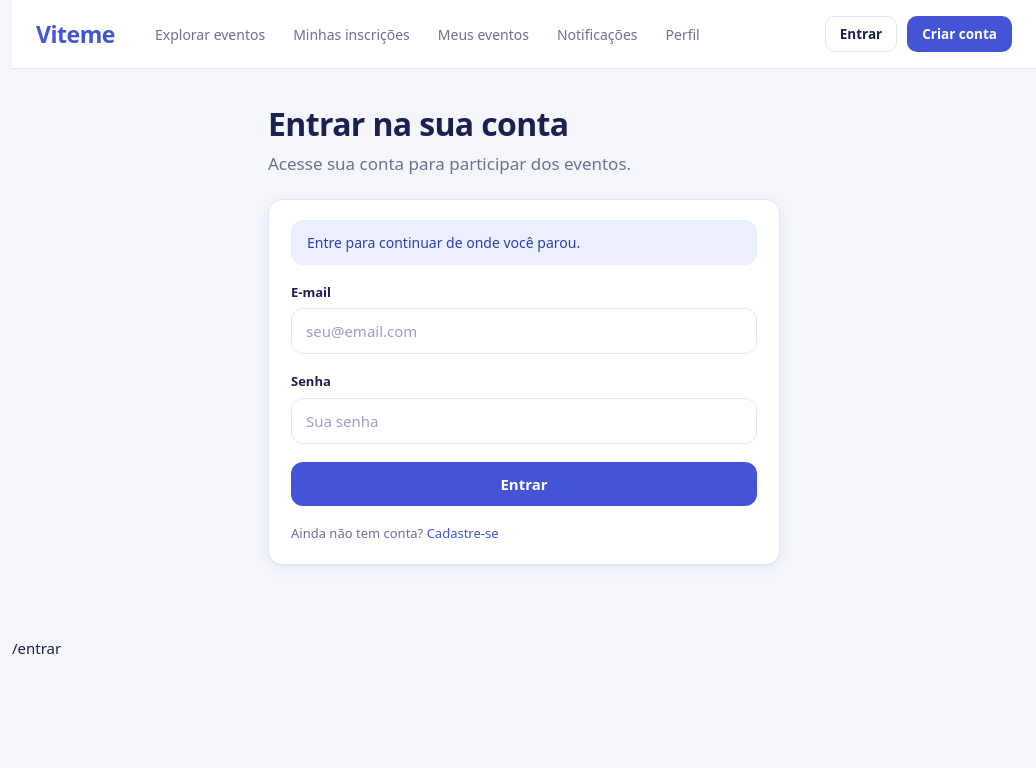
Test case: CT59 — rota protegida › redireciona o visitante ao login e volta à rota após autenticar
This screenshot has width=1036, height=768.
Expected: the heading "Entrar na sua conta" is shown, [268,102,568,145]
Type "maria@exemplo.com" into the field labelled "E-mail" at [524, 331], box [291,308,757,354]
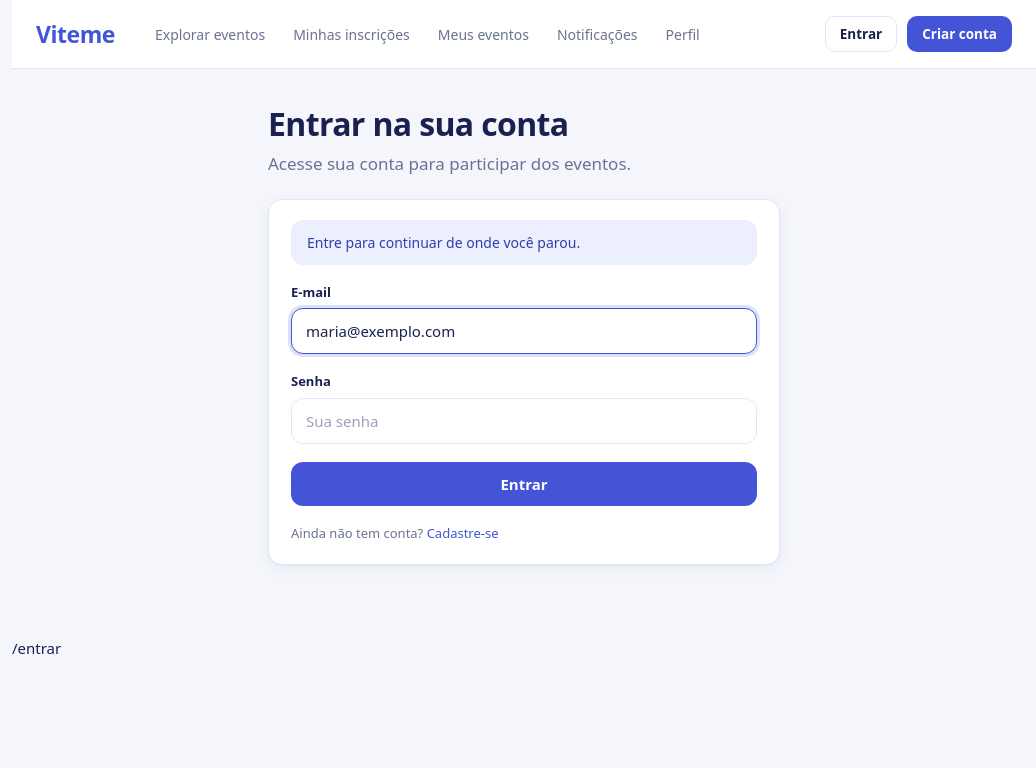
Type "Senha123" into the password field labelled "Senha" at [524, 421], box [291,398,757,444]
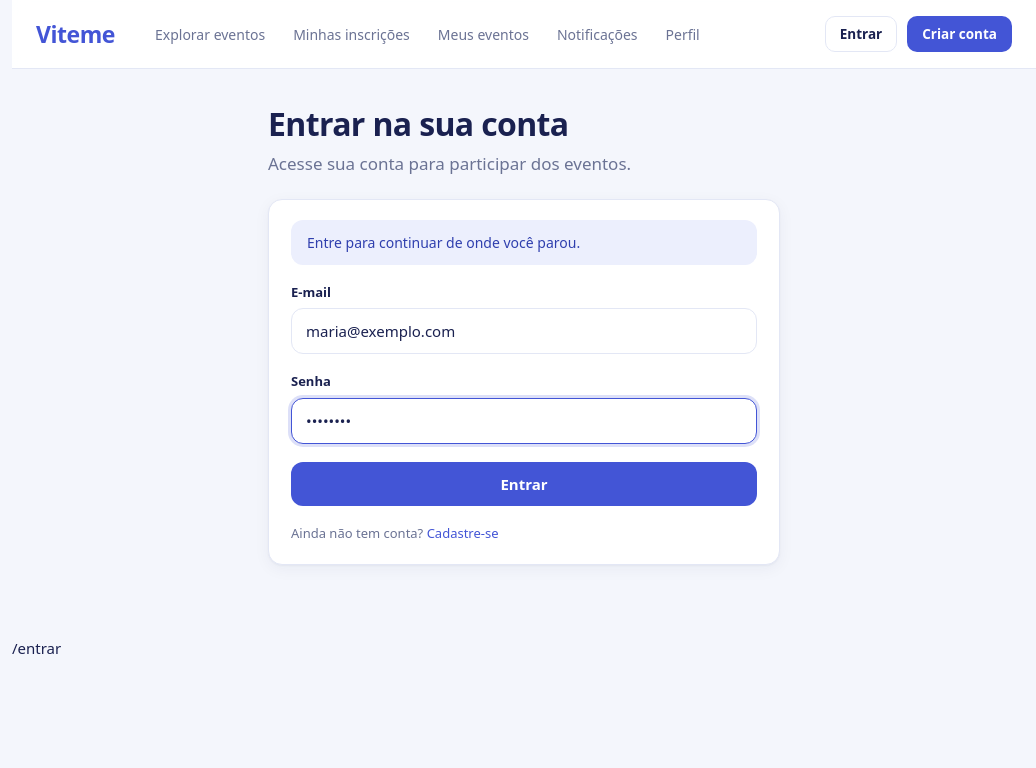
Click the button "Entrar" at [524, 484], box [291,462,757,506]
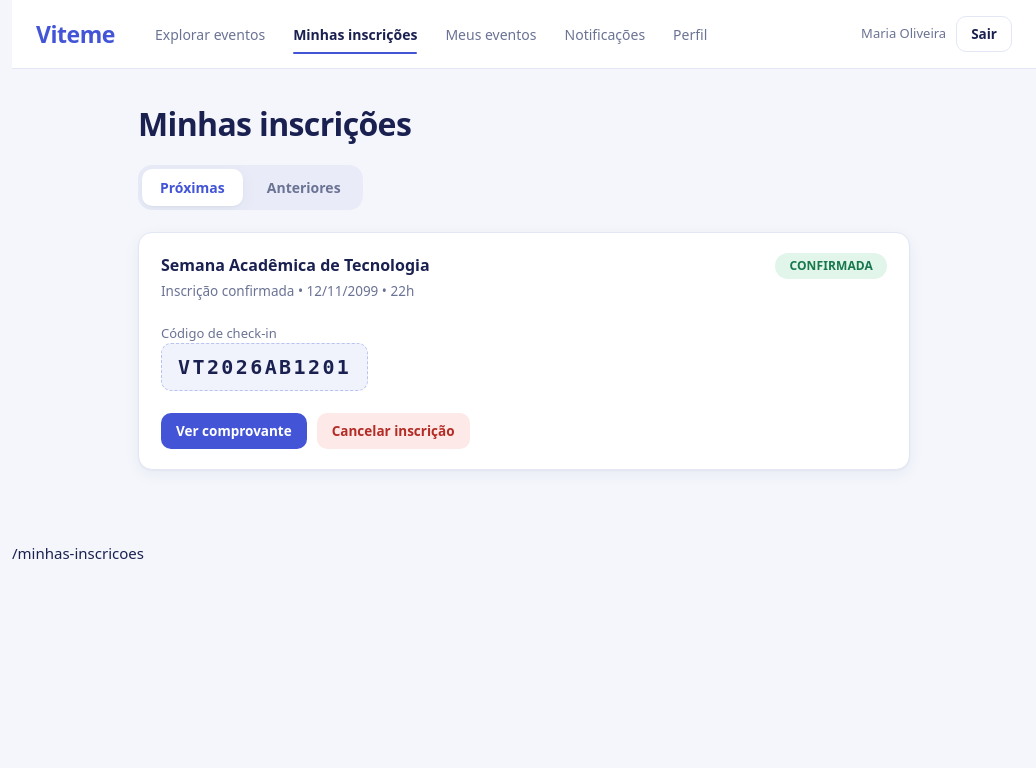
Now the heading "Minhas inscrições" is shown, box [138,102,411,145]
Now the text with test id "local" reads "/minhas-inscricoes", box [12,543,144,563]
Now the text "VT2026AB1201" is shown, box [161,343,368,391]
